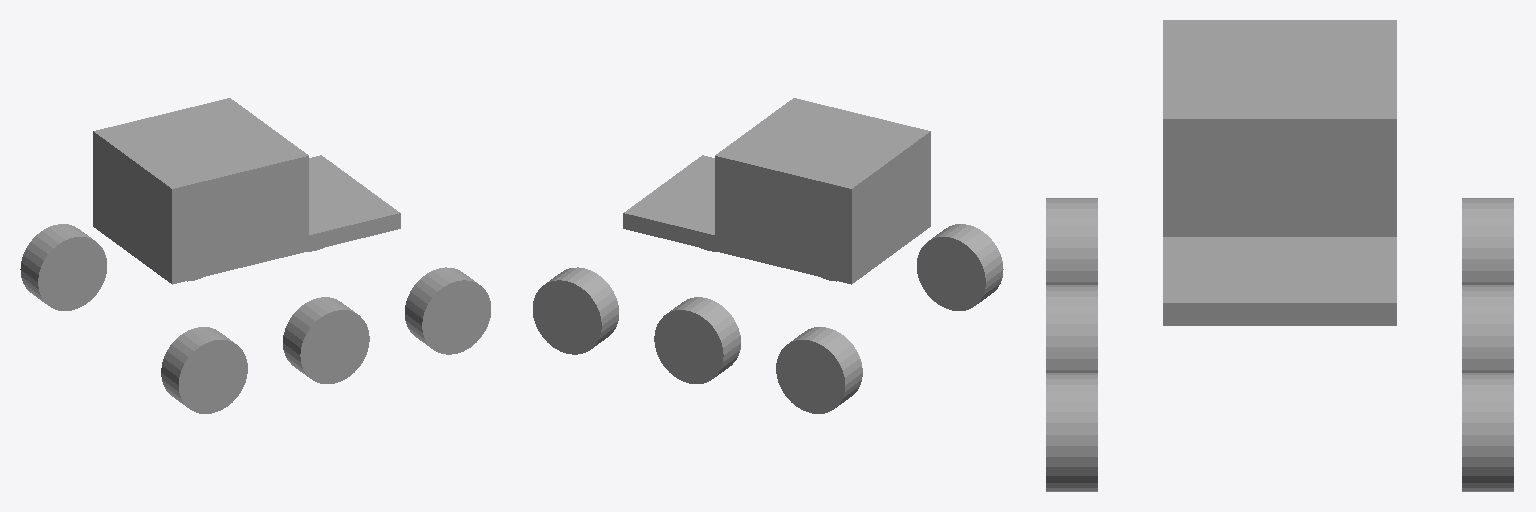
robot.urdf — uiowa_rover:
<?xml version="1.0" ?>
<!-- =================================================================================== -->
<!-- |    This document was autogenerated by xacro from [local-path]/Projects/Rover/src/uirover_description/urdf/physical.urdf.xacro | -->
<!-- |    EDITING THIS FILE BY HAND IS NOT RECOMMENDED                                 | -->
<!-- =================================================================================== -->
<robot name="uiowa_rover">
  <!-- XACRO CONSTANTS -->
  <!-- <xacro:property name="pi" value="3.14159265359" /> -->
  <!-- XACRO MACROS -->
  <!-- ROBOT DESCRIPTION -->
  <link name="base_link">
  </link>
  <!-- CHASSIS -->
  <link name="chassis">
    <visual>
      <geometry>
        <box size="0.45 0.45 0.3"/>
      </geometry>
      <material name="Grey">
        <color rgba="0.7 0.7 0.7 1.0"/>
      </material>
    </visual>
    <visual>
      <origin rpy="0 0 0" xyz="0.375 0 -0.125"/>
      <geometry>
        <box size="0.3 0.45 0.05"/>
      </geometry>
      <material name="Grey">
        <color rgba="0.7 0.7 0.7 1.0"/>
      </material>
    </visual>
    <collision>
      <geometry>
        <box size="0.45 0.45 0.3"/>
      </geometry>
    </collision>
    <collision>
      <origin rpy="0 0 0" xyz="0.375 0 -0.125"/>
      <geometry>
        <box size="0.3 0.45 0.05"/>
      </geometry>
    </collision>
    <inertial>
      <mass value="5"/>
      <inertia ixx="0.12187499999999998" ixy="0.0" ixz="0.0" iyy="0.12187499999999998" iyz="0.0" izz="0.16874999999999998"/>
    </inertial>
  </link>
  <joint name="chasiss_joint" type="fixed">
    <parent link="base_link"/>
    <child link="chassis"/>
    <origin rpy="0 0 0" xyz="0 0 0"/>
  </joint>
  <link name="front_l_wheel">
    <visual>
      <geometry>
        <cylinder length="0.1" radius="0.114"/>
      </geometry>
      <material name="Grey">
        <color rgba="0.7 0.7 0.7 1.0"/>
      </material>
    </visual>
    <collision>
      <geometry>
        <cylinder length="0.1" radius="0.114"/>
      </geometry>
    </collision>
    <inertial>
      <mass value="0.5"/>
      <inertia ixx="0.002041166666666667" ixy="0.0" ixz="0.0" iyy="0.002041166666666667" iyz="0.0" izz="0.003249"/>
    </inertial>
  </link>
  <joint name="front_l_wheel_joint" type="continuous">
    <parent link="chassis"/>
    <child link="front_l_wheel"/>
    <origin rpy="1.5707963267948966 0 0" xyz="0.5800000000000001 0.4 -0.35"/>
    <axis xyz="0 0 1"/>
  </joint>
  <link name="front_r_wheel">
    <visual>
      <geometry>
        <cylinder length="0.1" radius="0.114"/>
      </geometry>
      <material name="Grey">
        <color rgba="0.7 0.7 0.7 1.0"/>
      </material>
    </visual>
    <collision>
      <geometry>
        <cylinder length="0.1" radius="0.114"/>
      </geometry>
    </collision>
    <inertial>
      <mass value="0.5"/>
      <inertia ixx="0.002041166666666667" ixy="0.0" ixz="0.0" iyy="0.002041166666666667" iyz="0.0" izz="0.003249"/>
    </inertial>
  </link>
  <joint name="front_r_wheel_joint" type="continuous">
    <parent link="chassis"/>
    <child link="front_r_wheel"/>
    <origin rpy="1.5707963267948966 0 0" xyz="0.5800000000000001 -0.4 -0.35"/>
    <axis xyz="0 0 1"/>
  </joint>
  <link name="mid_l_wheel">
    <visual>
      <geometry>
        <cylinder length="0.1" radius="0.114"/>
      </geometry>
      <material name="Grey">
        <color rgba="0.7 0.7 0.7 1.0"/>
      </material>
    </visual>
    <collision>
      <geometry>
        <cylinder length="0.1" radius="0.114"/>
      </geometry>
    </collision>
    <inertial>
      <mass value="0.5"/>
      <inertia ixx="0.002041166666666667" ixy="0.0" ixz="0.0" iyy="0.002041166666666667" iyz="0.0" izz="0.003249"/>
    </inertial>
  </link>
  <joint name="mid_l_wheel_joint" type="continuous">
    <parent link="chassis"/>
    <child link="mid_l_wheel"/>
    <origin rpy="1.5707963267948966 0 0" xyz="0.18 0.4 -0.35"/>
    <axis xyz="0 0 1"/>
  </joint>
  <link name="mid_r_wheel">
    <visual>
      <geometry>
        <cylinder length="0.1" radius="0.114"/>
      </geometry>
      <material name="Grey">
        <color rgba="0.7 0.7 0.7 1.0"/>
      </material>
    </visual>
    <collision>
      <geometry>
        <cylinder length="0.1" radius="0.114"/>
      </geometry>
    </collision>
    <inertial>
      <mass value="0.5"/>
      <inertia ixx="0.002041166666666667" ixy="0.0" ixz="0.0" iyy="0.002041166666666667" iyz="0.0" izz="0.003249"/>
    </inertial>
  </link>
  <joint name="mid_r_wheel_joint" type="continuous">
    <parent link="chassis"/>
    <child link="mid_r_wheel"/>
    <origin rpy="1.5707963267948966 0 0" xyz="0.18 -0.4 -0.35"/>
    <axis xyz="0 0 1"/>
  </joint>
  <link name="back_l_wheel">
    <visual>
      <geometry>
        <cylinder length="0.1" radius="0.114"/>
      </geometry>
      <material name="Grey">
        <color rgba="0.7 0.7 0.7 1.0"/>
      </material>
    </visual>
    <collision>
      <geometry>
        <cylinder length="0.1" radius="0.114"/>
      </geometry>
    </collision>
    <inertial>
      <mass value="0.5"/>
      <inertia ixx="0.002041166666666667" ixy="0.0" ixz="0.0" iyy="0.002041166666666667" iyz="0.0" izz="0.003249"/>
    </inertial>
  </link>
  <joint name="back_l_wheel_joint" type="continuous">
    <parent link="chassis"/>
    <child link="back_l_wheel"/>
    <origin rpy="1.5707963267948966 0 0" xyz="-0.22000000000000003 0.4 -0.35"/>
    <axis xyz="0 0 1"/>
  </joint>
  <link name="back_r_wheel">
    <visual>
      <geometry>
        <cylinder length="0.1" radius="0.114"/>
      </geometry>
      <material name="Grey">
        <color rgba="0.7 0.7 0.7 1.0"/>
      </material>
    </visual>
    <collision>
      <geometry>
        <cylinder length="0.1" radius="0.114"/>
      </geometry>
    </collision>
    <inertial>
      <mass value="0.5"/>
      <inertia ixx="0.002041166666666667" ixy="0.0" ixz="0.0" iyy="0.002041166666666667" iyz="0.0" izz="0.003249"/>
    </inertial>
  </link>
  <joint name="back_r_wheel_joint" type="continuous">
    <parent link="chassis"/>
    <child link="back_r_wheel"/>
    <origin rpy="1.5707963267948966 0 0" xyz="-0.22000000000000003 -0.4 -0.35"/>
    <axis xyz="0 0 1"/>
  </joint>
  <!-- Joints -->
  <!-- Robot Footprint -->
  <link name="base_footprint"/>
  <joint name="base_joint" type="fixed">
    <parent link="base_link"/>
    <child link="base_footprint"/>
    <origin rpy="0 0 0" xyz="0.0 0.0 -0.44999999999999996"/>
  </joint>
</robot>

--- Render facts (derived) ---
Views: 3 orthographic renders of the robot side by side, from view 1: azimuth 30°, elevation 25°; view 2: azimuth 150°, elevation 25°; view 3: azimuth 270°, elevation 25°.
Model uiowa_rover with 9 links and 8 joints (6 continuous, 2 fixed), rooted at base_link, posed every joint at zero.
Links seen in each view (by area): view 1: chassis, back_l_wheel, back_r_wheel, mid_r_wheel, front_r_wheel; view 2: chassis, back_l_wheel, back_r_wheel, mid_l_wheel, front_l_wheel; view 3: chassis, front_l_wheel, front_r_wheel, mid_l_wheel, mid_r_wheel, back_l_wheel, back_r_wheel.
Boxes of the visible links, box(x1,y1,x2,y2) form: chassis: box(93, 98, 400, 284); back_l_wheel: box(20, 224, 106, 310); back_r_wheel: box(161, 327, 247, 413); mid_r_wheel: box(283, 297, 369, 383); front_r_wheel: box(405, 267, 490, 354); chassis: box(623, 98, 930, 284); back_l_wheel: box(776, 327, 862, 413); back_r_wheel: box(917, 224, 1003, 310); mid_l_wheel: box(654, 297, 740, 383); front_l_wheel: box(533, 267, 618, 354); chassis: box(1163, 20, 1396, 325); front_l_wheel: box(1462, 373, 1513, 491); front_r_wheel: box(1046, 373, 1097, 491); mid_l_wheel: box(1462, 285, 1513, 372); mid_r_wheel: box(1046, 285, 1097, 372); back_l_wheel: box(1462, 198, 1513, 284); back_r_wheel: box(1046, 198, 1097, 284).
Bounding box of the posed robot: 1.03 × 0.9 × 0.614 m (x, y, z).
Geometry: primitives only (box / cylinder / sphere), no mesh files.
